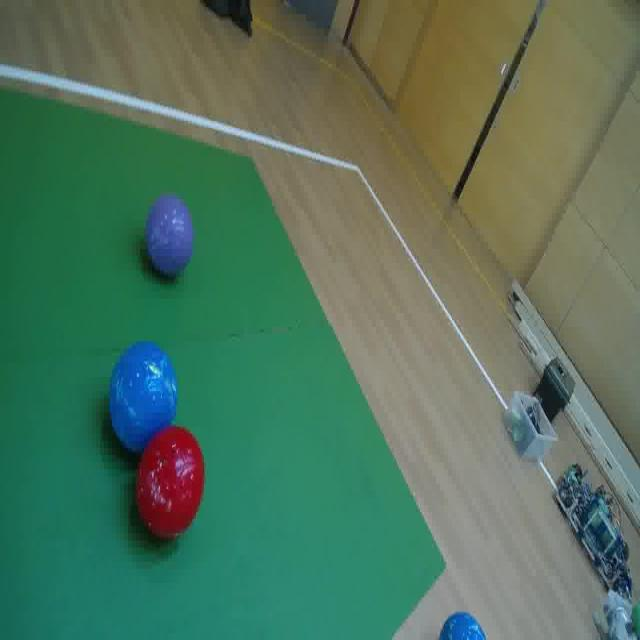blue_ball: (107, 338, 179, 456), (436, 606, 489, 640)
purple_ball: (144, 189, 196, 278)
red_ball: (133, 422, 206, 546)
